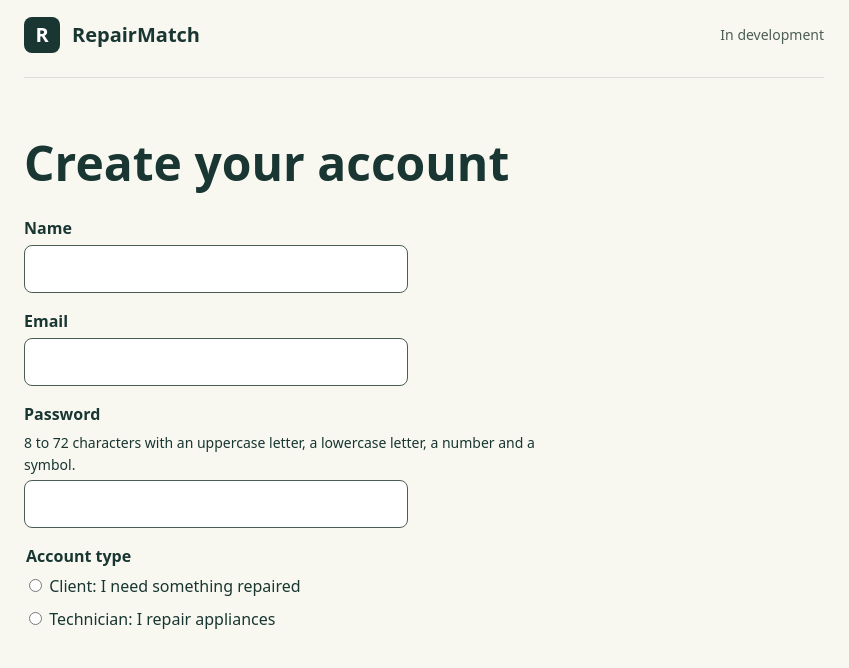
it: register form › explains when the account exists but automatic sign-in failed
In the field labelled "Name": (216, 269) [24,245,408,293], type "Test Client"
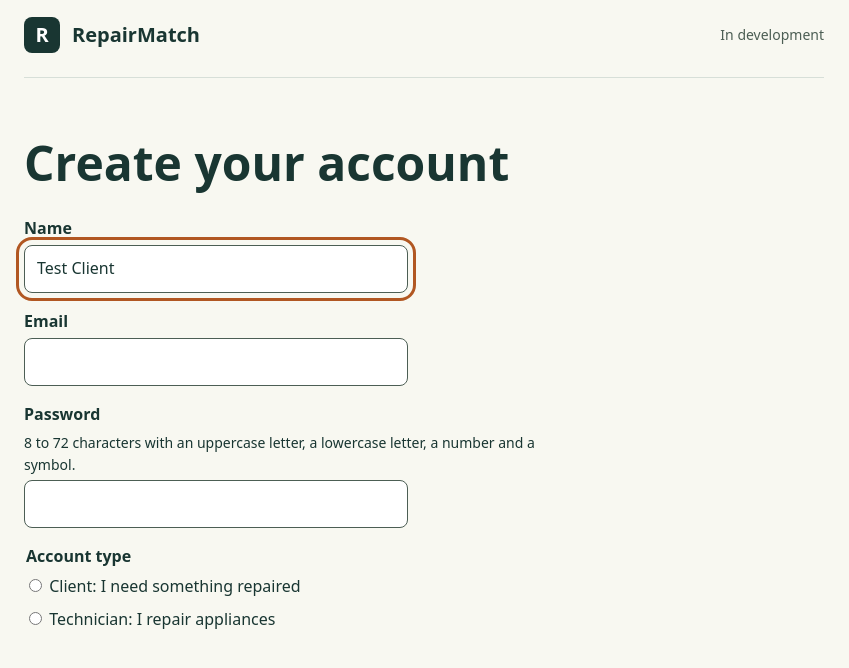
In the field labelled "Email": (216, 362) [24,338,408,386], type "client@example.test"
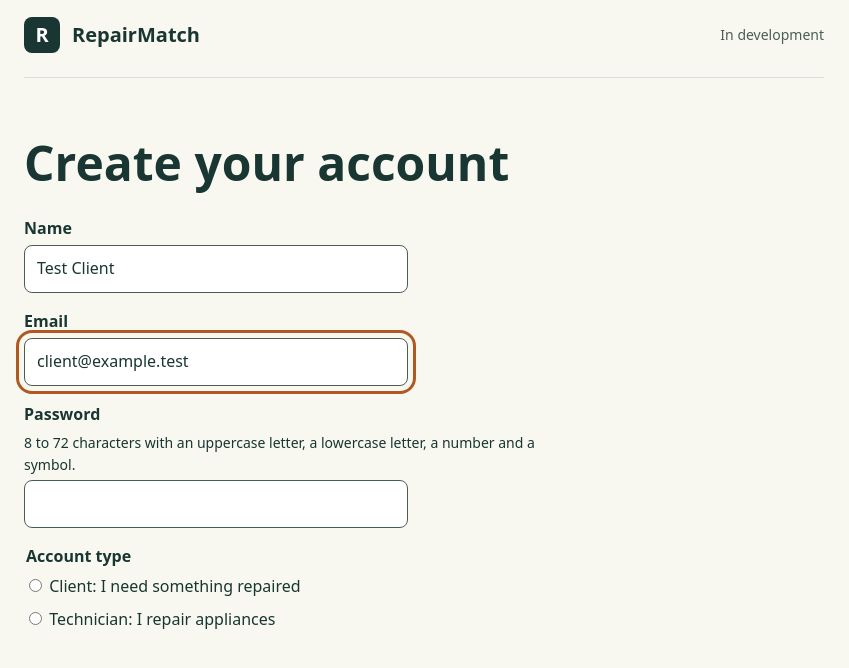
In the password field labelled "Password": (216, 504) [24,480,408,528], type "Test-pass-1"
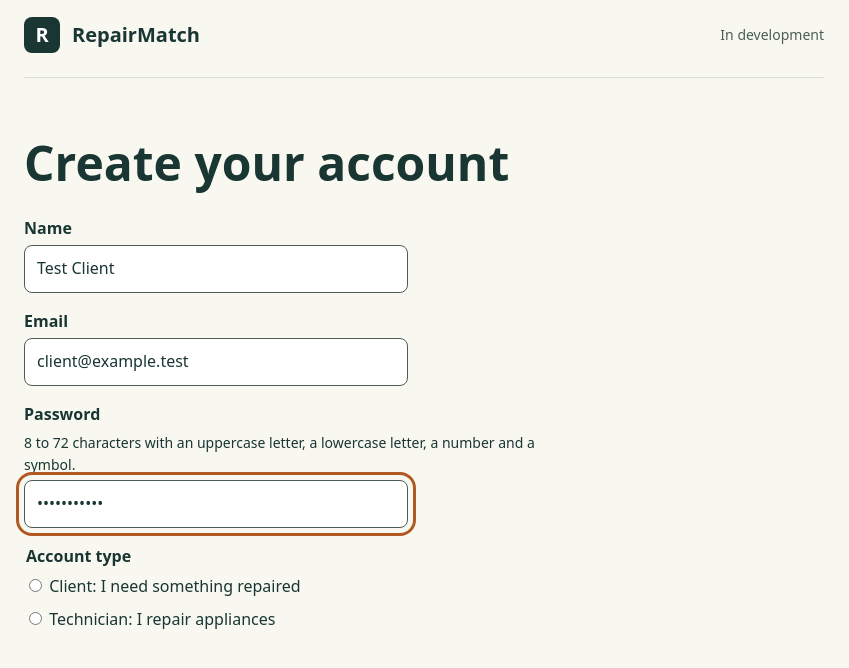
Click the radio button labelled "Client: I need something repaired": (36, 585) [29,578,42,592]
(page scrolled)
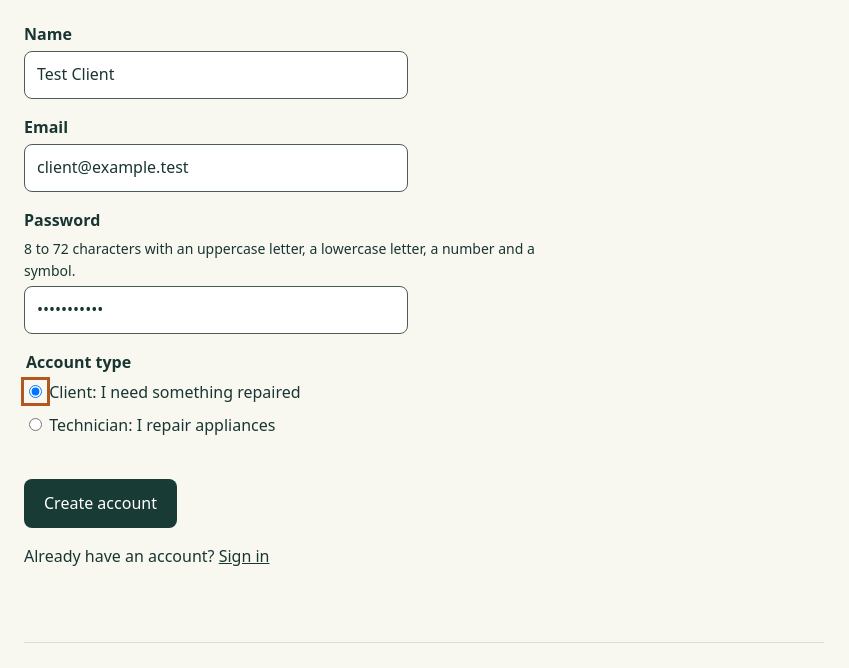
Click the button "Create account": (100, 504) [24,479,177,528]
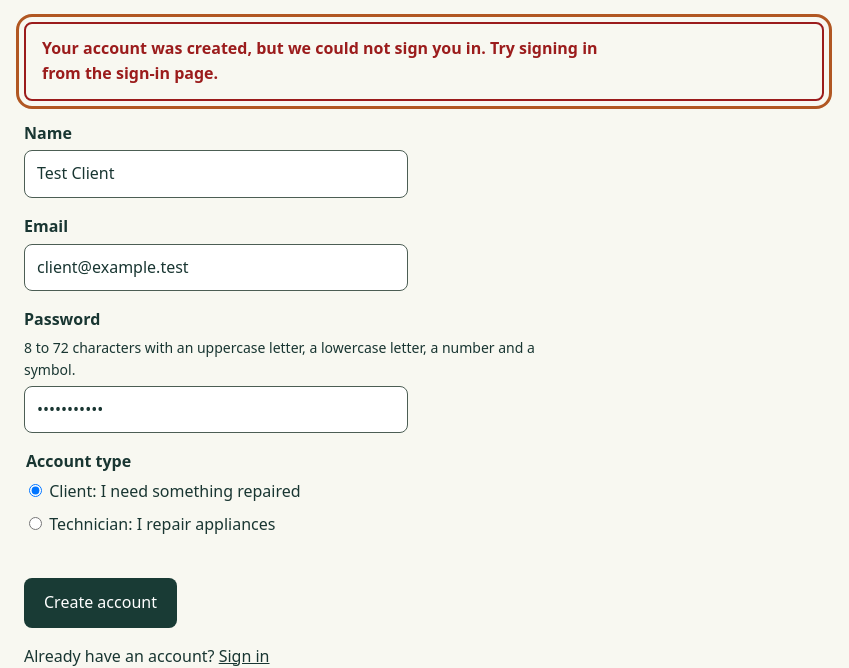
Expected: the message shows "Your account was created, but we could not sign you in.", [42,37,598,84]
